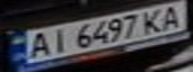4: (90, 18, 112, 46)
6: (72, 20, 96, 50)
7: (118, 11, 145, 39)
9: (106, 16, 127, 43)
A: (21, 29, 54, 60), (154, 2, 190, 30)
I: (45, 26, 72, 54)
K: (139, 7, 172, 35)
